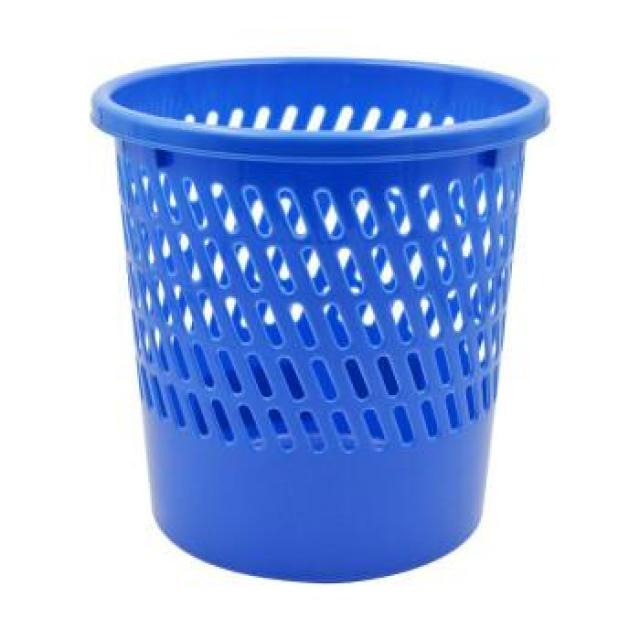Dustbin: (84, 50, 556, 588)
